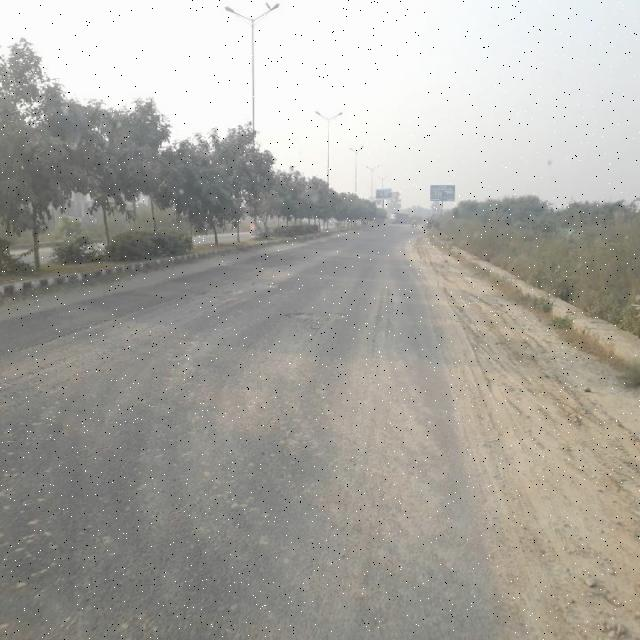D40: (276, 307, 352, 333)
